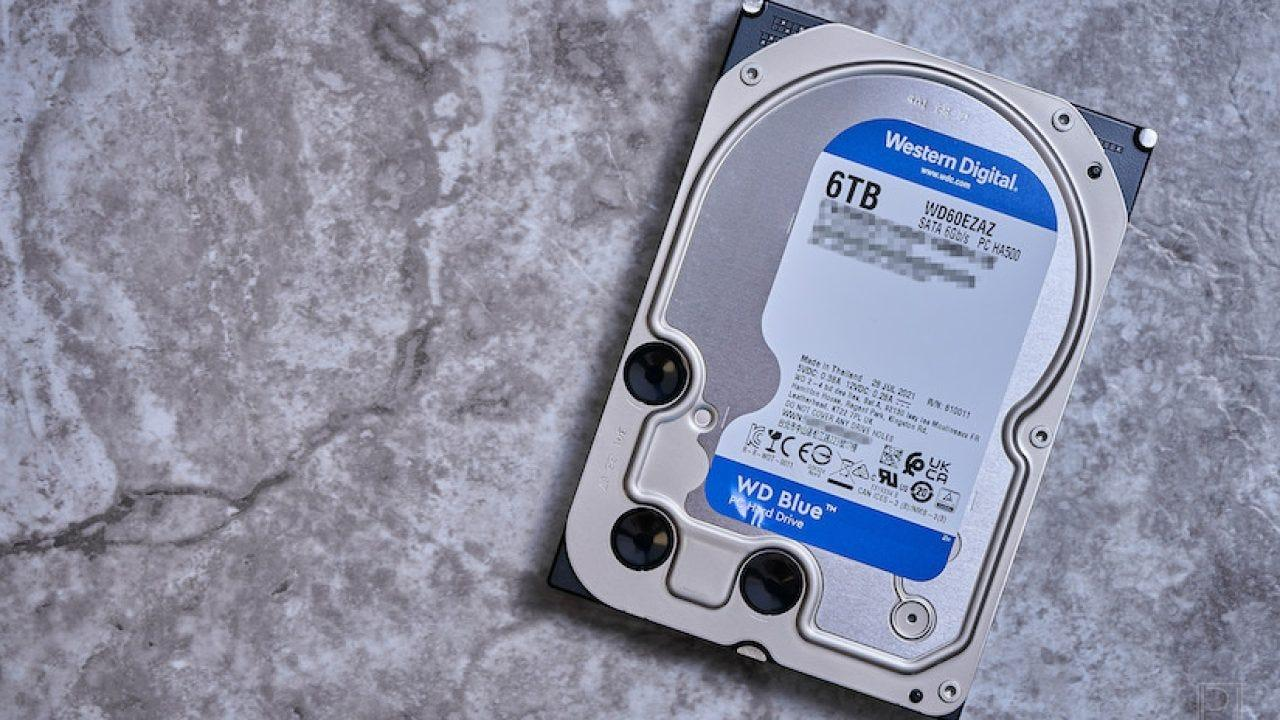internal HDD: (546, 0, 1158, 720)
